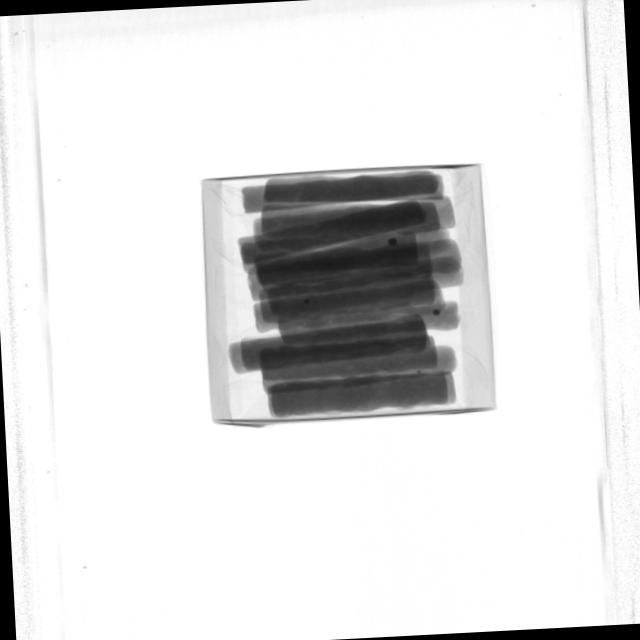ym: (388, 238, 398, 248), (433, 309, 441, 317), (305, 298, 310, 304), (418, 370, 423, 375)
